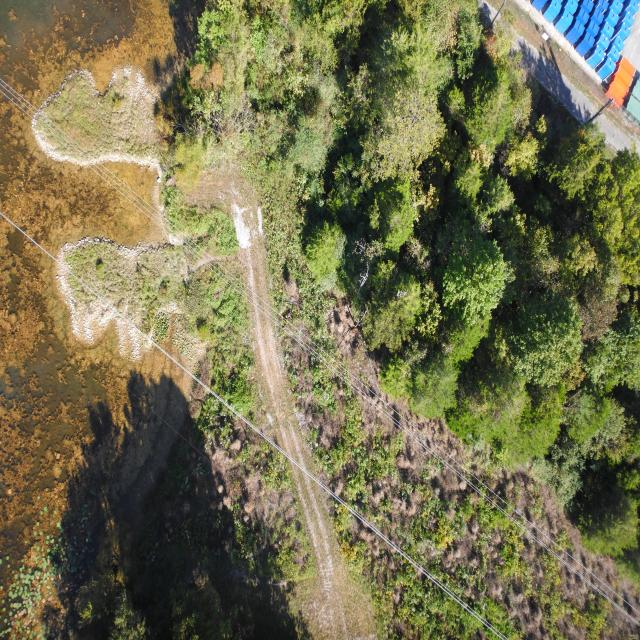Area of Interest: (227, 15, 632, 546)
